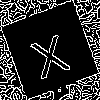X: (25, 25, 72, 80)
